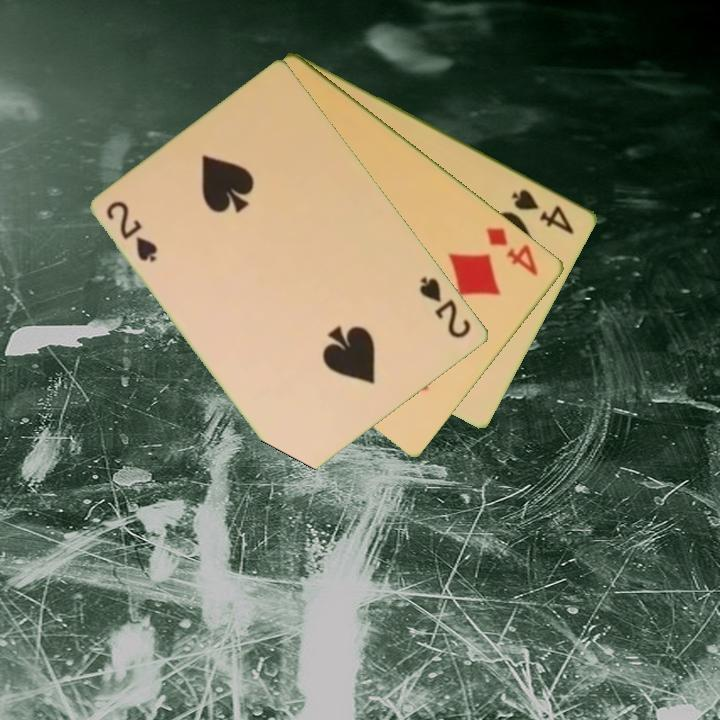2s: (416, 273, 475, 341), (103, 197, 161, 265)
4d: (483, 223, 542, 279)
4s: (508, 185, 578, 238)
